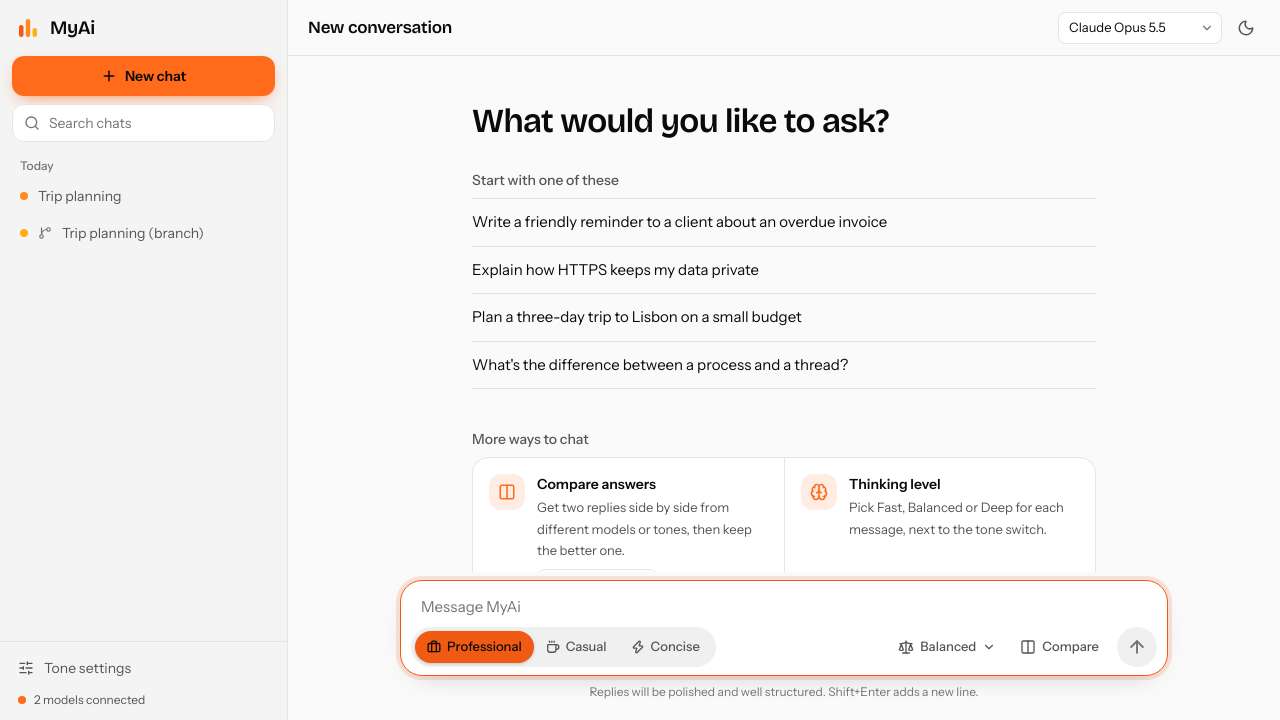
Test: App › opens the tone settings
The width and height of the screenshot is (1280, 720).
Click the button "Tone settings" at (88, 668), box left=8, top=650, right=279, bottom=686
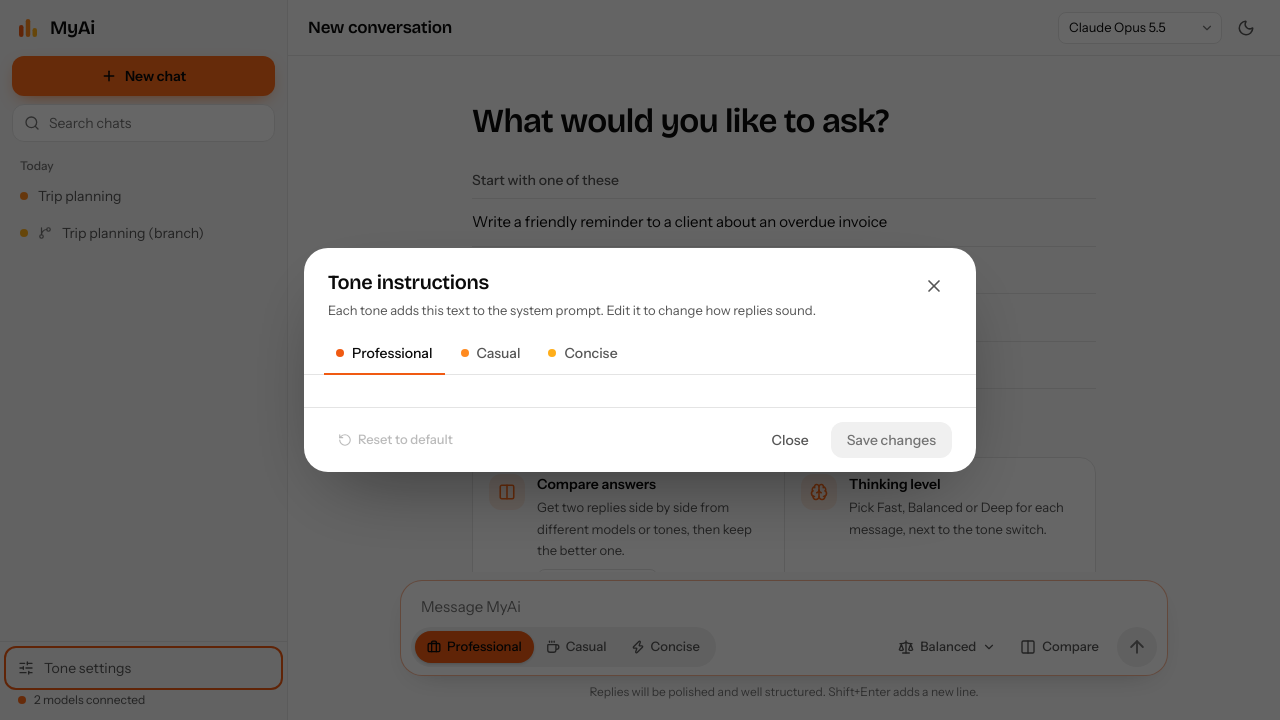
Now the dialog "Tone instructions" is shown, box left=304, top=248, right=976, bottom=472
